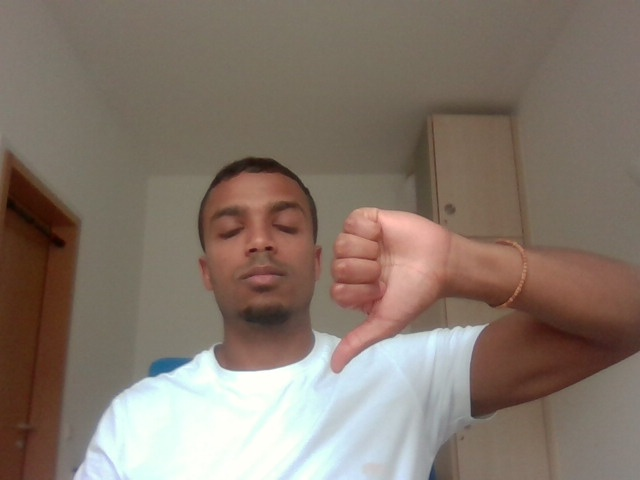no: (323, 188, 470, 391)
